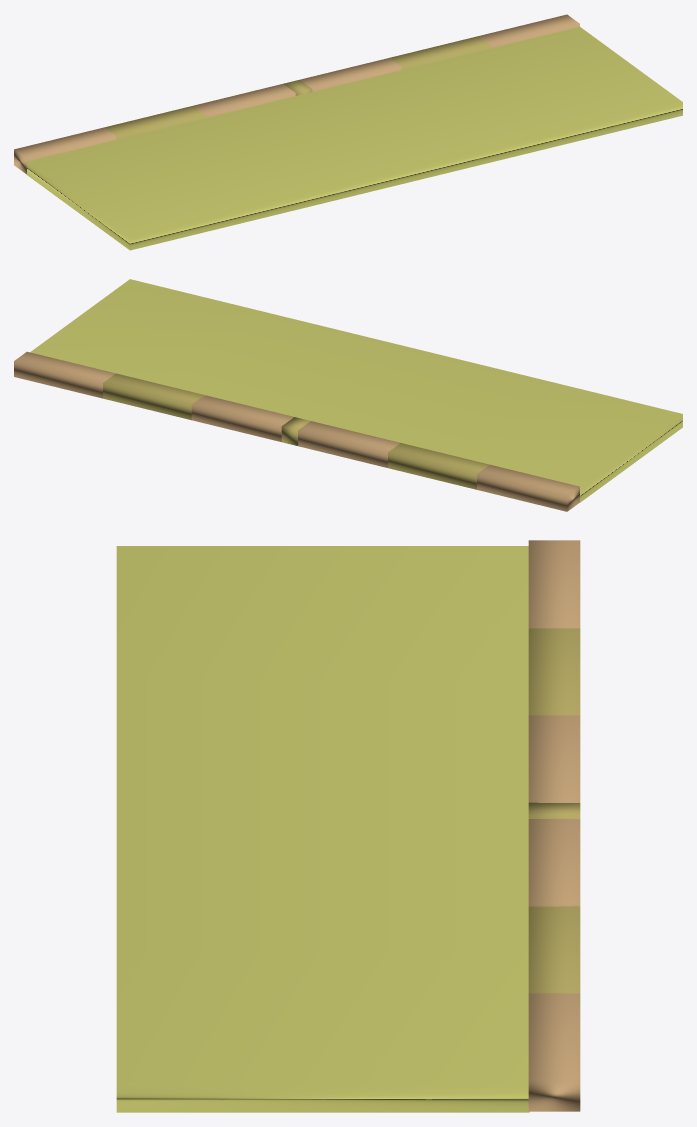
The model's file is path 1.fbx.
3 renders of one model, top to bottom at view 1: azimuth 30°, elevation 25°; view 2: azimuth 150°, elevation 25°; view 3: azimuth 270°, elevation 25°, orthographic. The views are drawn at different scales.
Visible parts, largest first — view 1: Cube, Cube.006, Cube.003, Cube.004, Cube.001, Cube.005, Cube.002; view 2: Cube, Cube.006, Cube.003, Cube.004, Cube.001, Cube.005, Cube.002, Cube.007; view 3: Cube, Cube.001, Cube.006, Cube.002, Cube.004, Cube.005, Cube.003, Cube.007.
Boxes of the visible parts, box(x1,y1,x2,y2) form: Cube: box(27, 27, 682, 250); Cube.006: box(14, 127, 116, 174); Cube.003: box(300, 58, 402, 91); Cube.004: box(193, 84, 295, 117); Cube.001: box(478, 14, 579, 48); Cube.005: box(104, 106, 205, 139); Cube.002: box(389, 36, 490, 69); Cube: box(30, 279, 682, 502); Cube.006: box(477, 464, 579, 511); Cube.003: box(191, 395, 293, 441); Cube.004: box(298, 421, 400, 467); Cube.001: box(14, 351, 115, 398); Cube.005: box(388, 443, 489, 489); Cube.002: box(103, 373, 205, 420); Cube.007: box(281, 417, 310, 445); Cube: box(116, 546, 529, 1112); Cube.001: box(528, 993, 580, 1111); Cube.006: box(528, 540, 580, 628); Cube.002: box(528, 905, 580, 993); Cube.004: box(528, 715, 580, 802); Cube.005: box(528, 628, 580, 715); Cube.003: box(528, 819, 580, 906); Cube.007: box(528, 802, 580, 818).
Bounding box in the file's own units: 198 × 5.57 × 71.84.
